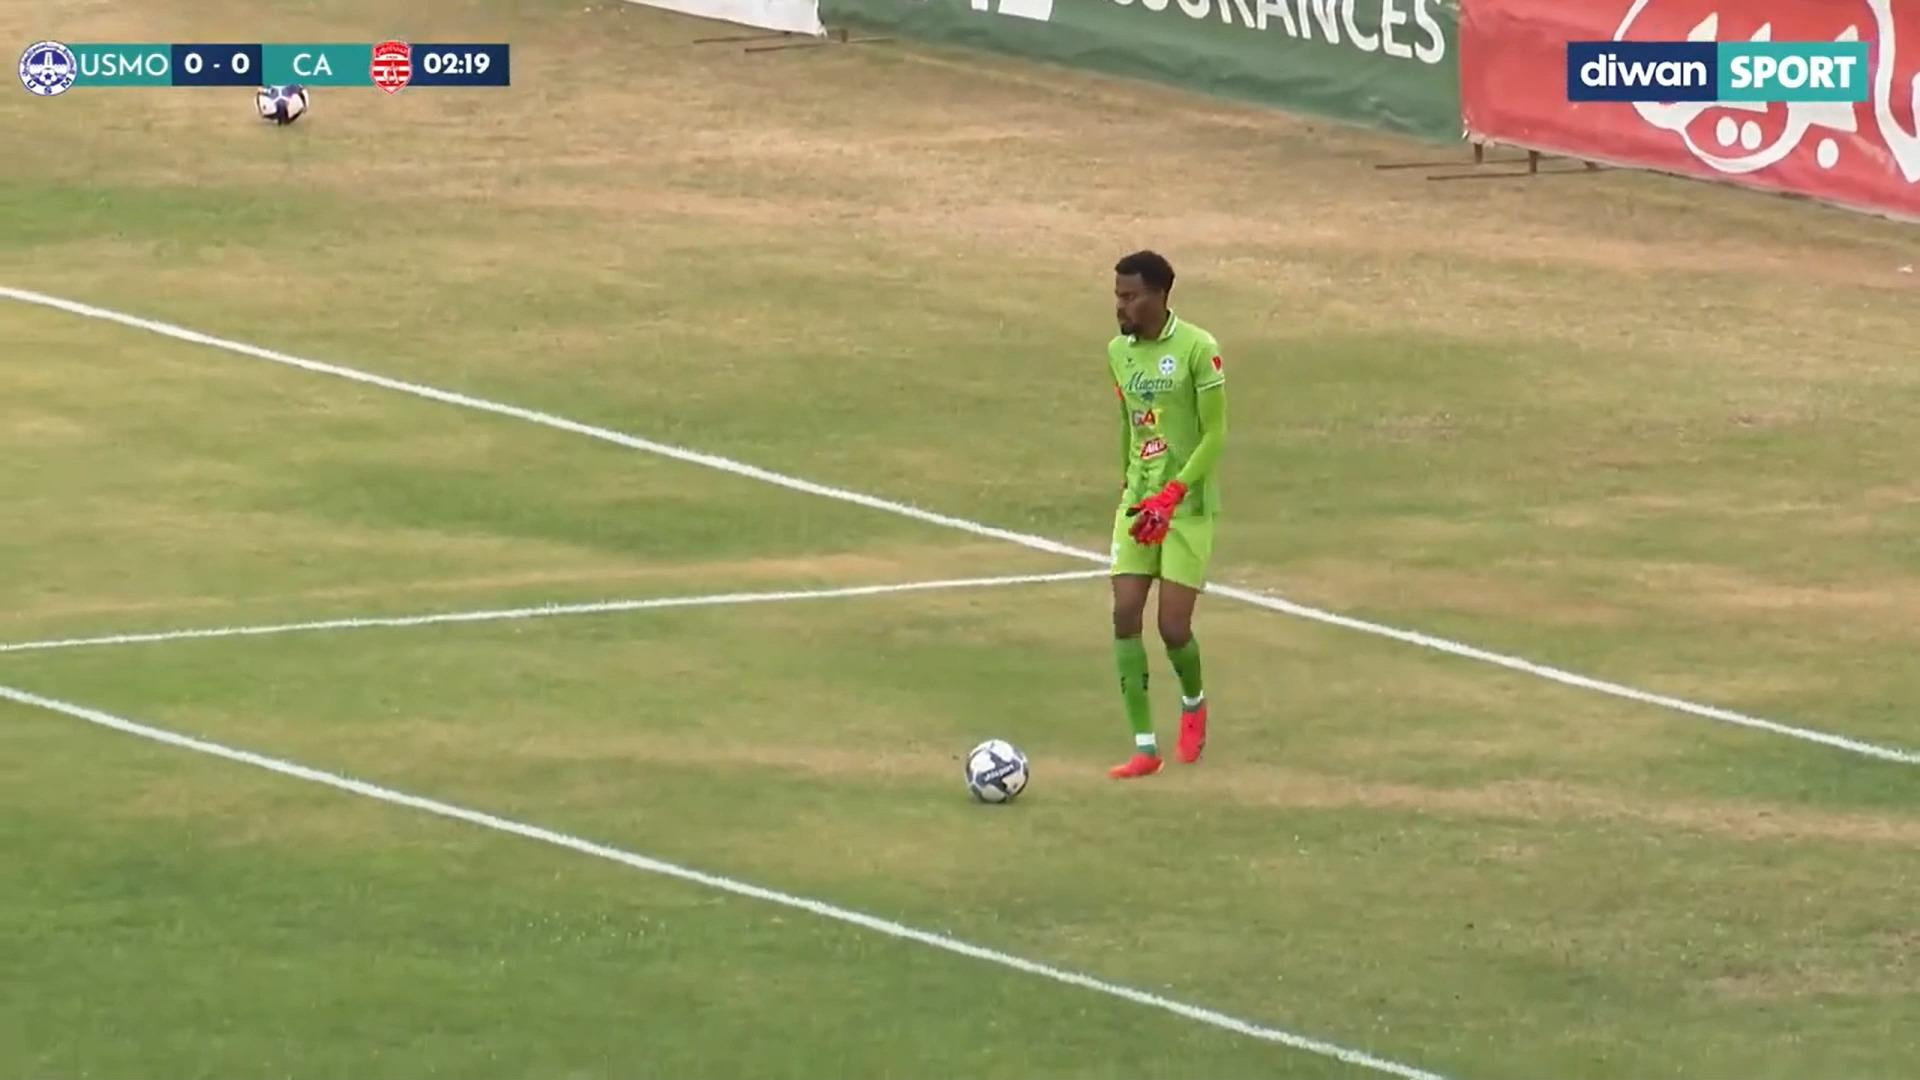ball: (952, 729, 1054, 827)
goalkeeper: (1067, 225, 1259, 812)
